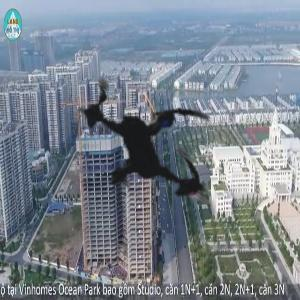drone: (2, 5, 286, 289)
